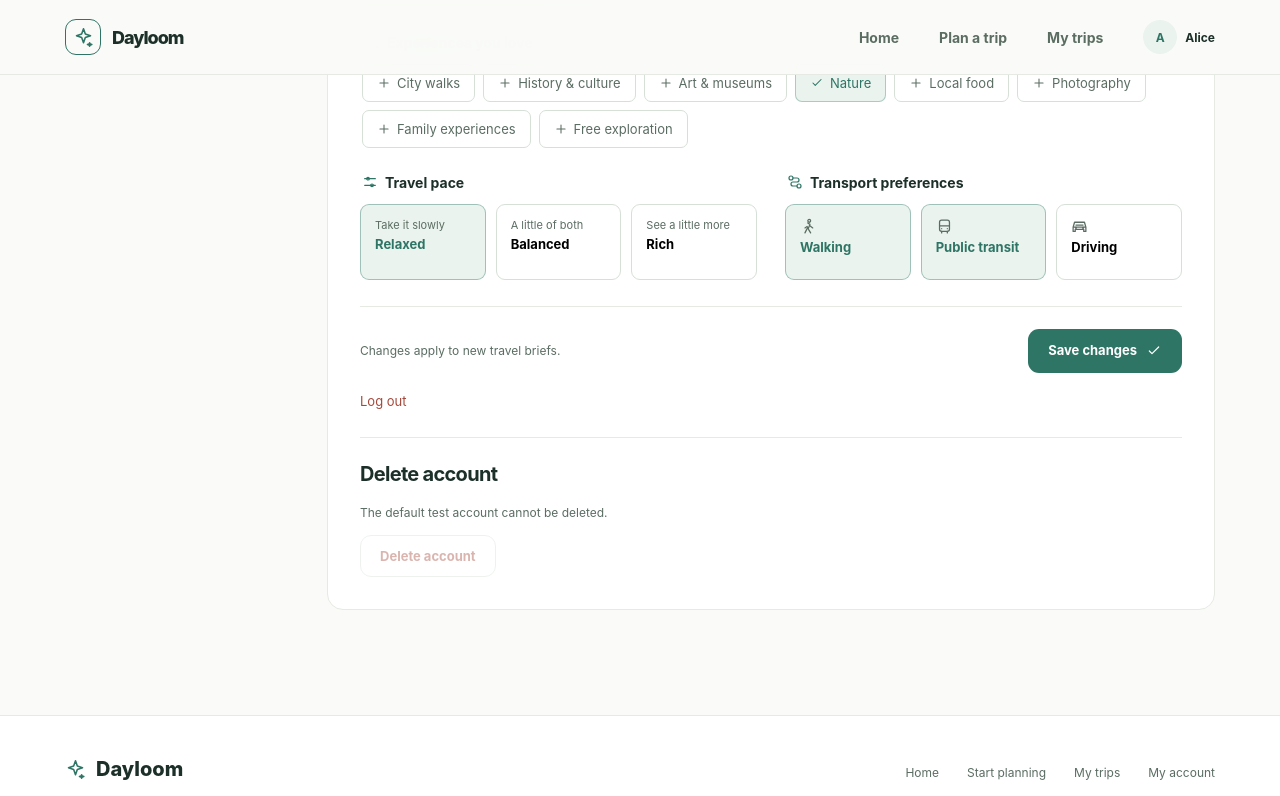
keeps a failed form logout visible after quarantining the profile
The width and height of the screenshot is (1280, 796).
(page scrolled)
Click the button "Log out" at (383, 401), box left=360, top=393, right=406, bottom=409
(page scrolled)
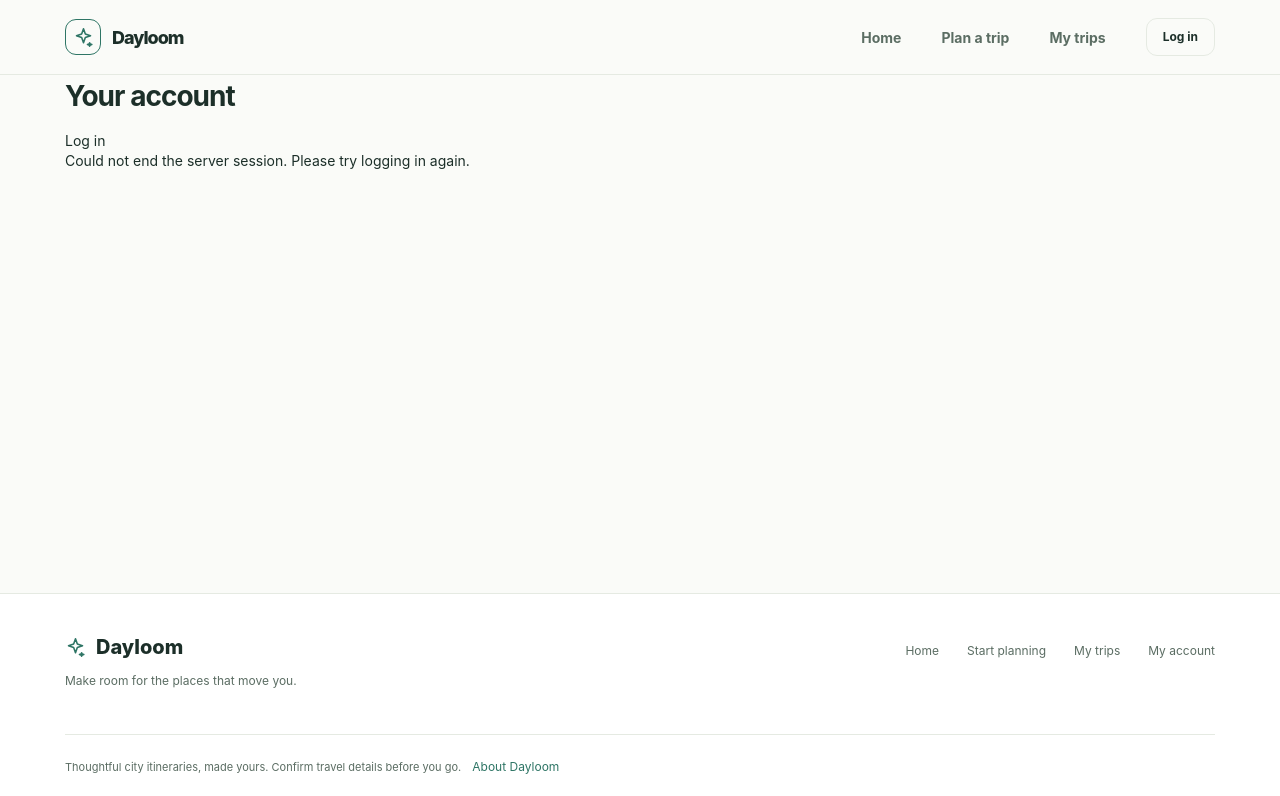
expect the message shows "Could not end the server session.": met, box left=65, top=152, right=470, bottom=169
